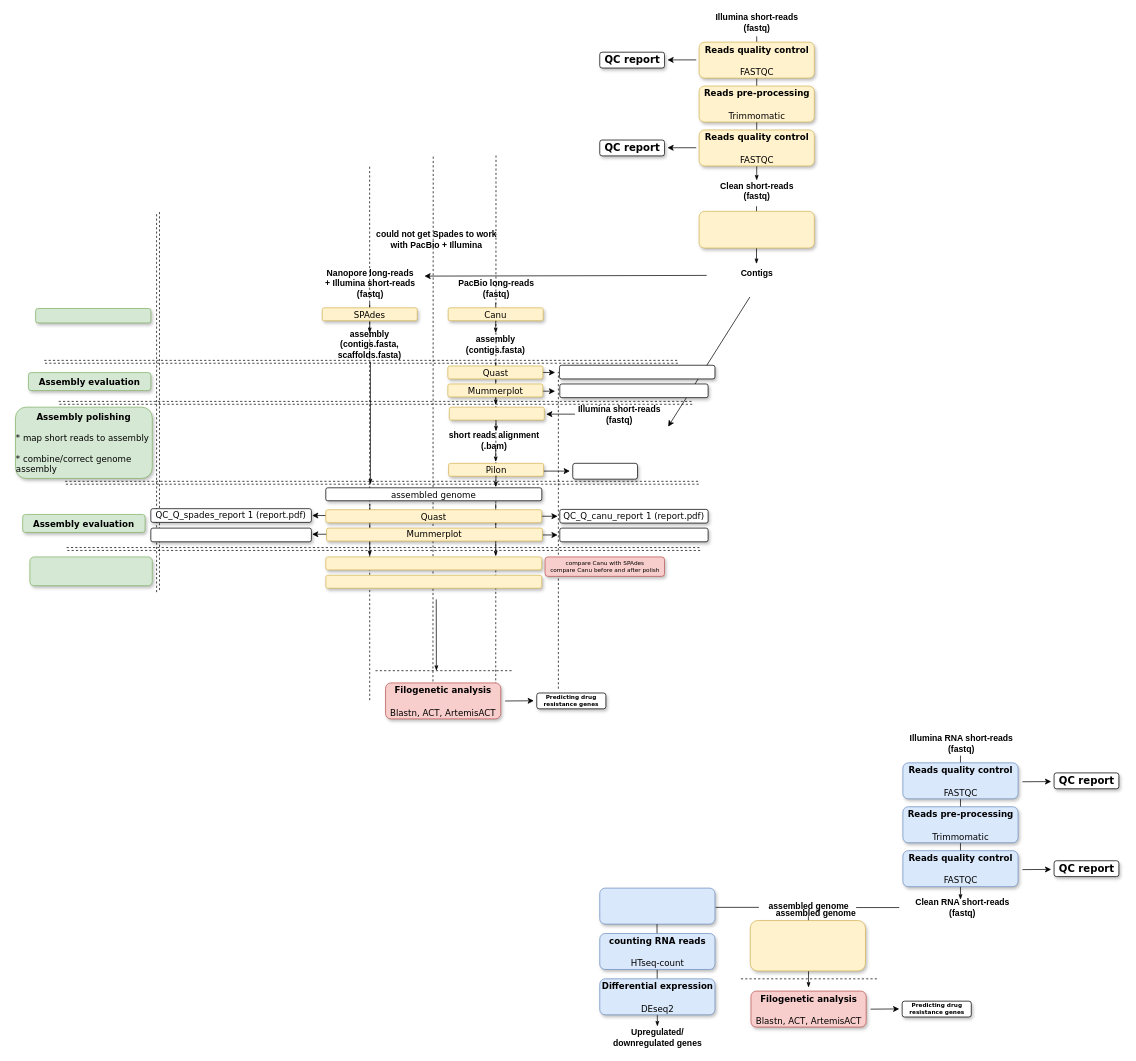
The diagram is 1136 pixels wide and 1061 high, and some of its shapes have lost their labels. Each missing label, with the centre of its shape:
BWA-MEM: [497,414]
Chromosome and plasmids: [605,472]
EGGnog: [434,582]
Genome assembly: [93,316]
Genome assembly SPAdes: [757,230]
Prokka: [434,564]
QC_M_canu_out.png 0 (out.png): [634,391]
QC_M_canu_out.png 1 (out.png): [634,536]
QC_M_spades_out.png 1 (out.png): [231,536]
QC_Q_canu_report 0 (report.pdf): [637,373]
RNA mapping BWA-MEM: [657,907]
Structural and functional annotation: [91,572]
Structural and functional annotation Prokka, EGGnog: [808,946]
